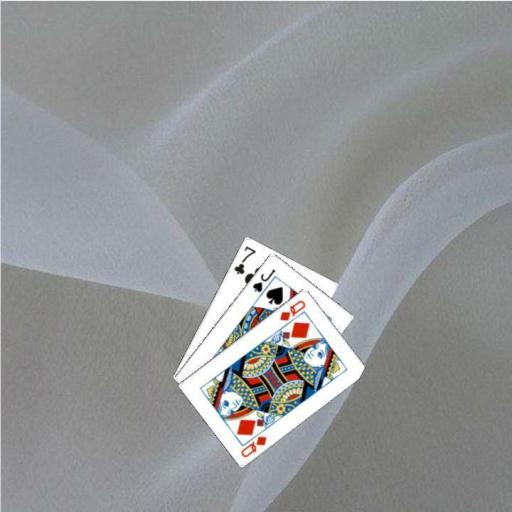card-corner: (230, 242, 258, 276), (238, 432, 268, 459), (250, 265, 276, 294), (277, 297, 307, 322)
